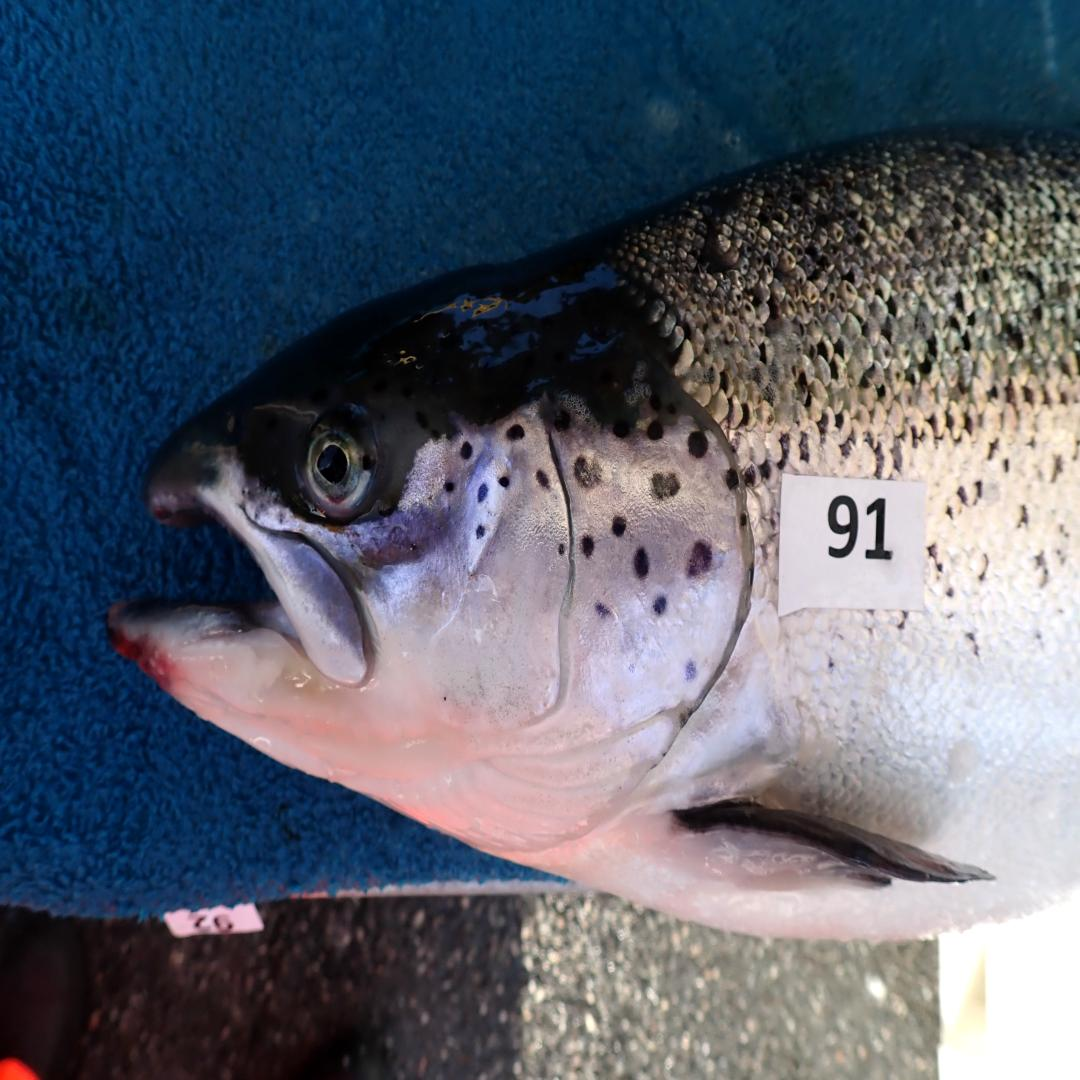roi: (367, 394, 751, 859)
